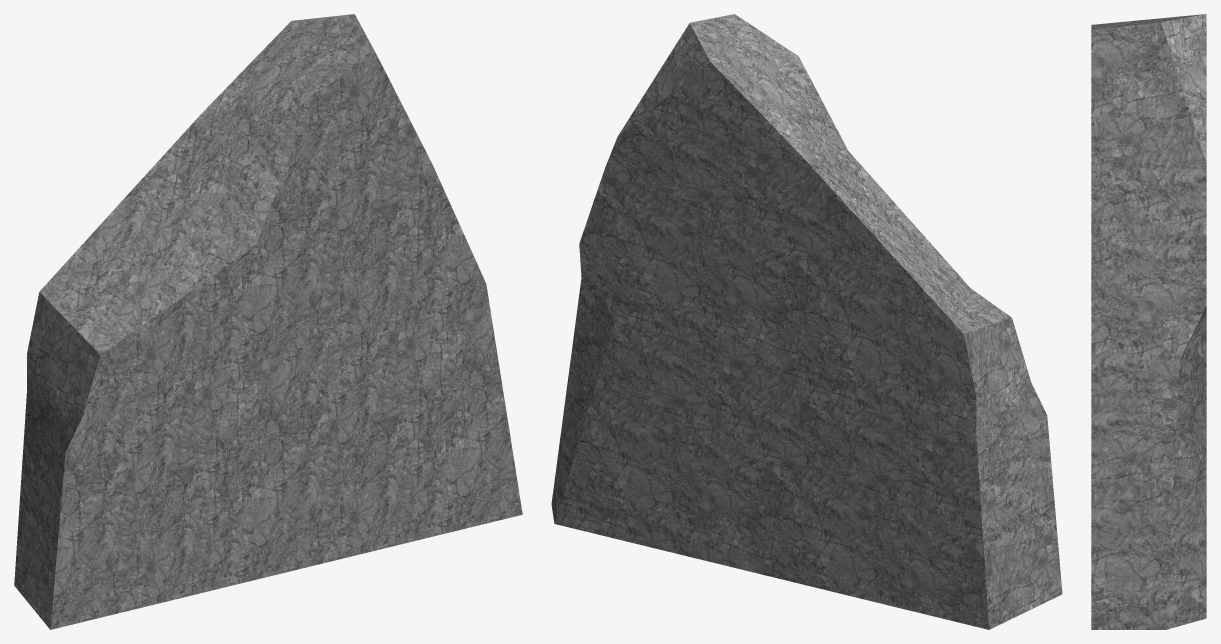
Rendered from materials_3_wall_10.fbx.
3 renders of one model, left to right at view 1: azimuth 30°, elevation 25°; view 2: azimuth 150°, elevation 25°; view 3: azimuth 270°, elevation 25°, orthographic. The views are drawn at different scales.
Parts seen in each view (by area): view 1: materials_3_wall_10; view 2: materials_3_wall_10; view 3: materials_3_wall_10.
Boxes of the visible parts, x1,y1,x2,y2 form: materials_3_wall_10: (14, 14, 522, 629); materials_3_wall_10: (551, 14, 1062, 629); materials_3_wall_10: (1091, 14, 1206, 629).
Bounding box in the file's own units: 428 × 441 × 85.6.
